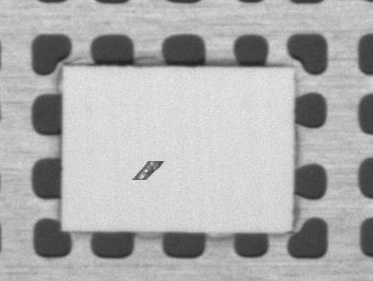DIE_INK: (133, 158, 163, 181)
